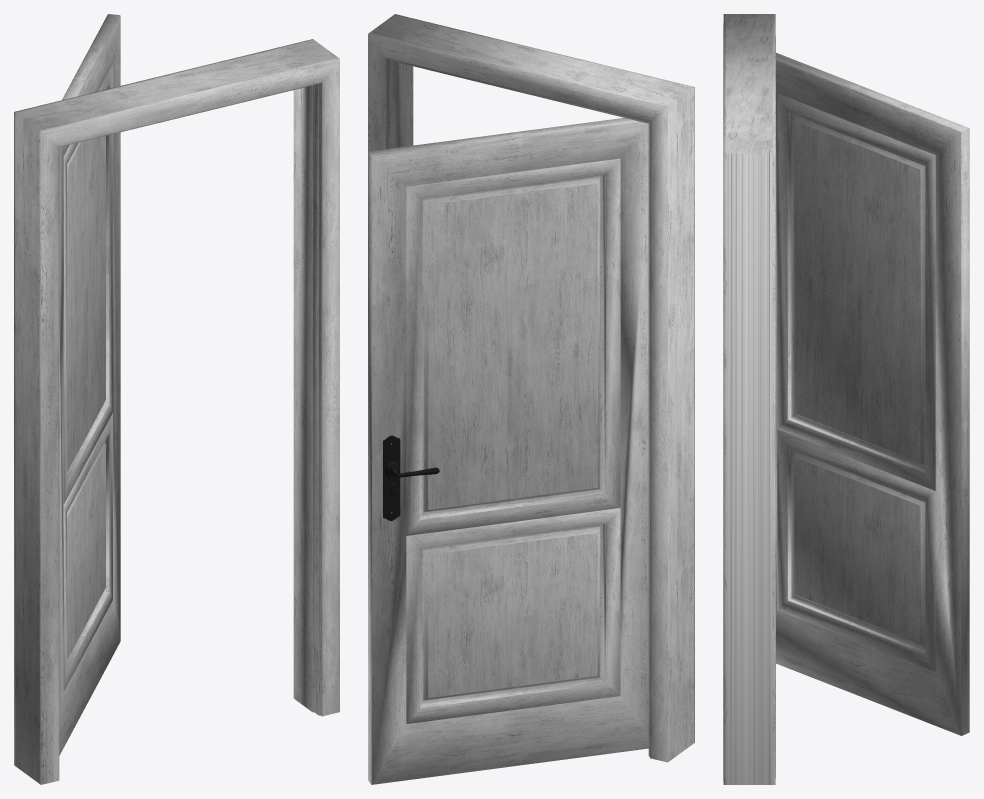
Rendered from Single_Door_2.glb.
3 renders of one model, left to right at view 1: azimuth 30°, elevation 25°; view 2: azimuth 150°, elevation 25°; view 3: azimuth 270°, elevation 25°, orthographic. The views are drawn at different scales.
Parts seen in each view (by area): view 1: Door_Panel001; view 2: Door_Panel001; view 3: Door_Panel001.
Part boxes in pixels (<box>): Door_Panel001: <box>14,14,339,784</box>; Door_Panel001: <box>368,14,694,784</box>; Door_Panel001: <box>723,14,969,784</box>.
Bounding box in the file's own units: 0.989 × 2.07 × 0.732.
Materials: 2 (2 with a texture image).
